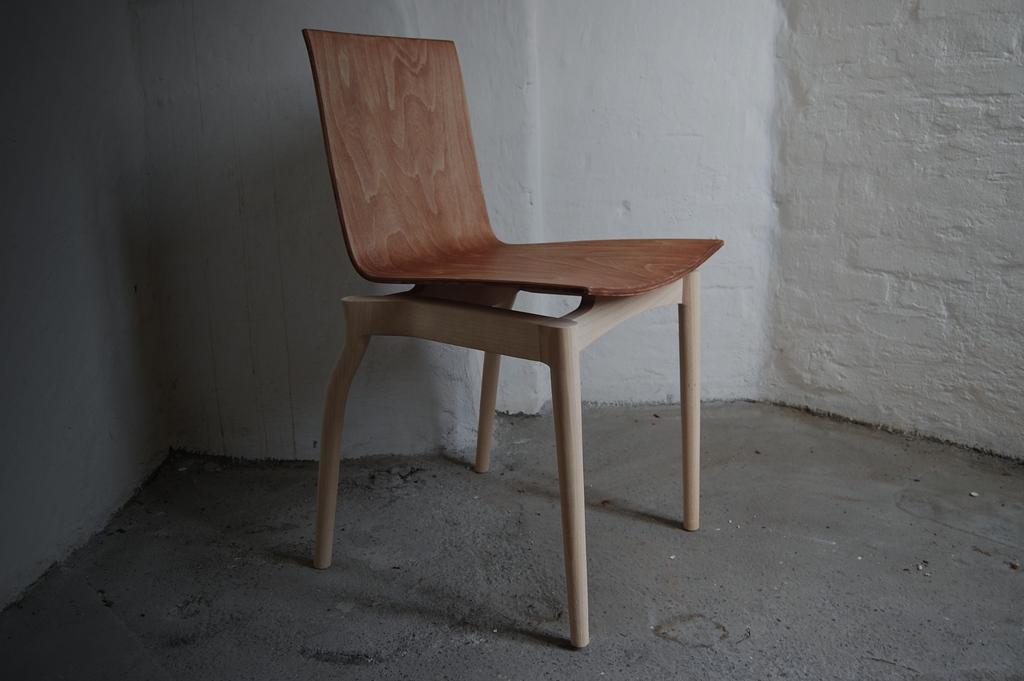Chair: (303, 26, 727, 648)
